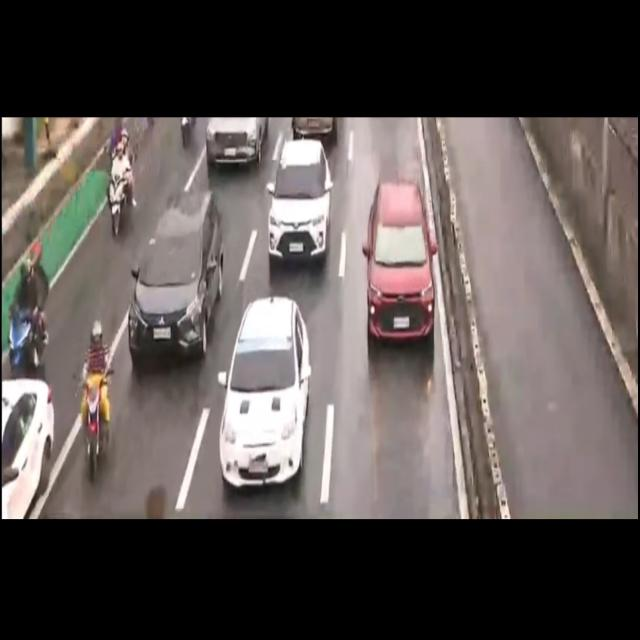Motorcycle: (2, 242, 51, 386), (83, 314, 114, 480), (102, 123, 136, 250)
SUV: (132, 191, 218, 351), (365, 176, 440, 354), (270, 145, 330, 265)
Sedan: (220, 295, 311, 483), (0, 380, 58, 512), (200, 114, 274, 166)
